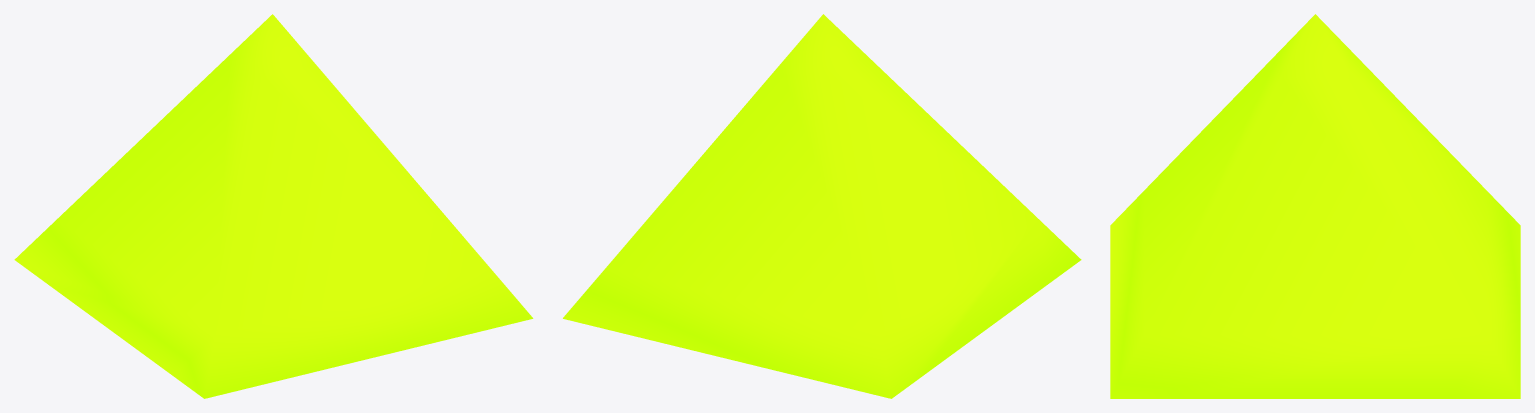
File: ButtonCube.fbx
3 renders of one model, left to right at view 1: azimuth 30°, elevation 25°; view 2: azimuth 150°, elevation 25°; view 3: azimuth 270°, elevation 25°, orthographic. The views are drawn at different scales.
Parts seen in each view (by area): view 1: Plane; view 2: Plane; view 3: Plane.
Part boxes in pixels (x1=…): Plane: x1=14, y1=14, x2=533, y2=398; Plane: x1=563, y1=14, x2=1081, y2=398; Plane: x1=1110, y1=14, x2=1520, y2=398.
Size of the model in its own units: 200 by 160 by 200.
